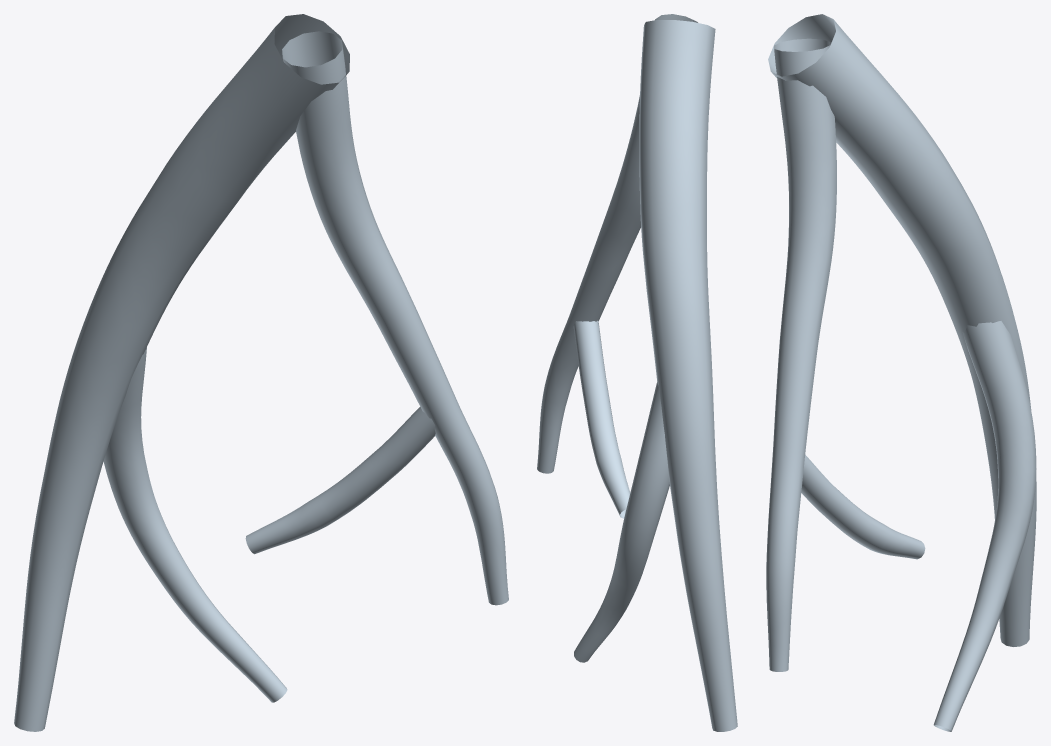
File: visceras-posterior-basal-segmental-bronchus-of-right-lung-bx.glb
The picture shows the model from 3 angles, left to right: view 1: azimuth 30°, elevation 25°; view 2: azimuth 150°, elevation 25°; view 3: azimuth 270°, elevation 25°; orthographic projection. The views are drawn at different scales.
Parts seen in each view (by area): view 1: Posterior basal segmental bronchus of right lung (BX); view 2: Posterior basal segmental bronchus of right lung (BX); view 3: Posterior basal segmental bronchus of right lung (BX).
Boxes of the visible parts, box(x1,y1,x2,y2) form: Posterior basal segmental bronchus of right lung (BX): box(14, 14, 508, 731); Posterior basal segmental bronchus of right lung (BX): box(537, 14, 737, 731); Posterior basal segmental bronchus of right lung (BX): box(766, 14, 1036, 731).
Size of the model in its own units: 0.0404 by 0.0787 by 0.0278.
